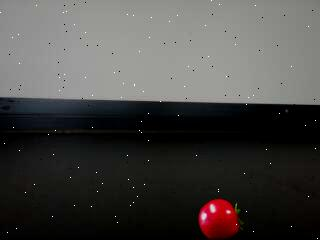Tomato: (197, 196, 245, 240)
